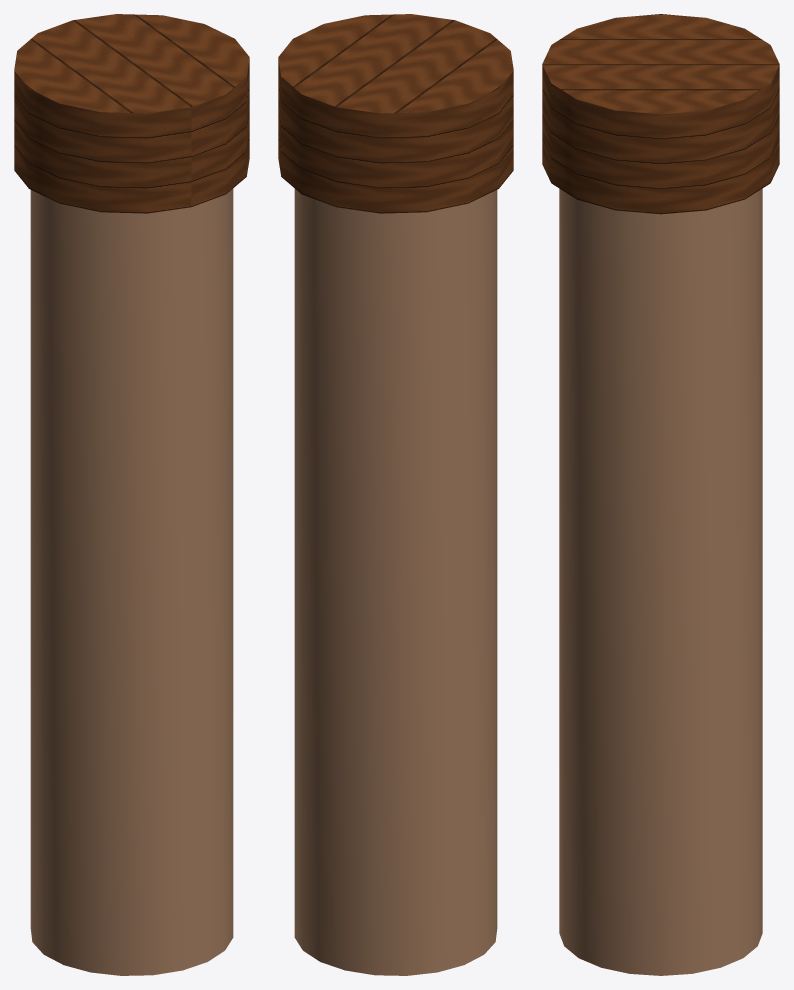
Rendered from scavengers-loot-library-needle-case-fc9ba062__2678.glb.
3 renders of one model, left to right at view 1: azimuth 30°, elevation 25°; view 2: azimuth 150°, elevation 25°; view 3: azimuth 270°, elevation 25°, orthographic.
Visible parts, largest first — view 1: needle-case; view 2: needle-case; view 3: needle-case.
Boxes of the visible parts, left/top/right/bottom form: needle-case: left=14, top=14, right=249, bottom=975; needle-case: left=278, top=14, right=513, bottom=975; needle-case: left=542, top=14, right=779, bottom=975.
Bounding box in the file's own units: 0.028 × 0.113 × 0.028.
2 materials, 1 textured.
